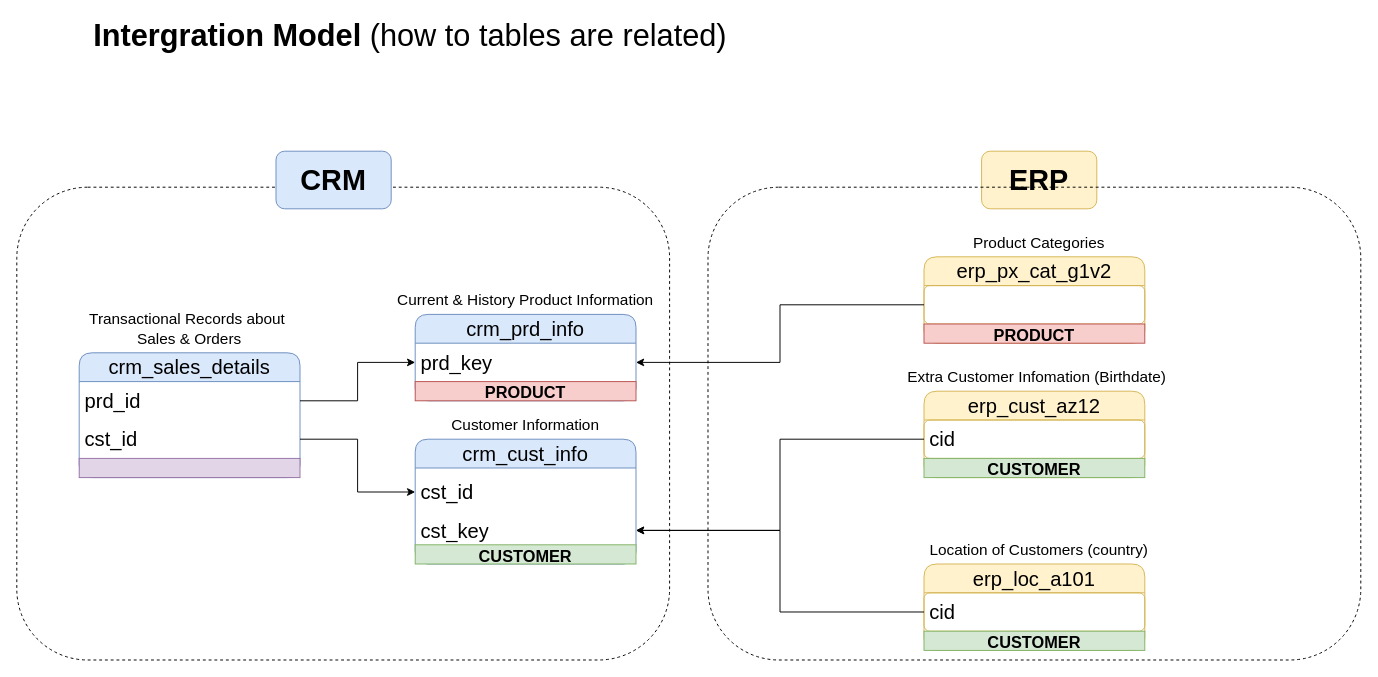
Some shapes in this 1378 by 677 pixel diagram are drawn without their labels. The centre of each missing label's shape, as x and y in pixels:
id: point (1034, 304)
SALES: point (189, 467)
